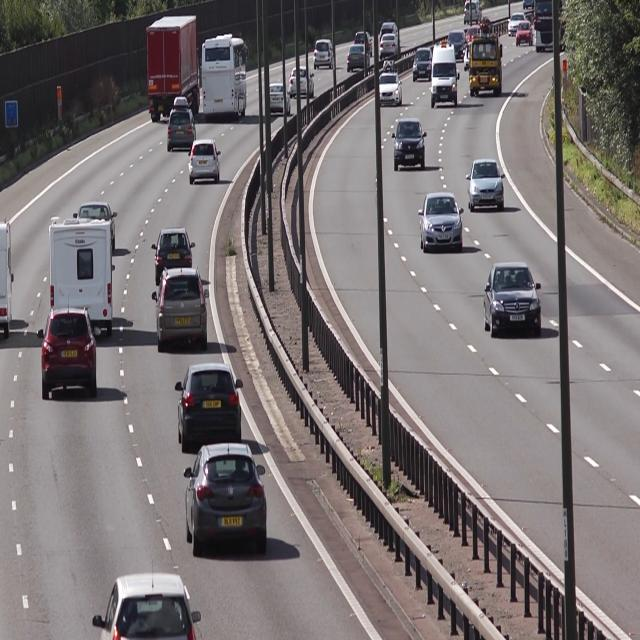Car: (183, 442, 269, 553), (46, 213, 116, 341), (94, 572, 204, 640), (176, 362, 247, 448), (146, 15, 200, 122), (38, 311, 100, 400), (151, 270, 211, 352), (481, 262, 544, 340), (202, 34, 248, 122), (419, 187, 465, 260), (152, 226, 197, 285), (469, 19, 503, 96), (467, 157, 506, 213), (392, 117, 427, 174), (167, 94, 199, 153), (187, 137, 222, 189), (433, 40, 459, 110), (379, 62, 403, 109), (413, 41, 432, 83), (515, 14, 534, 48), (314, 37, 333, 69)
